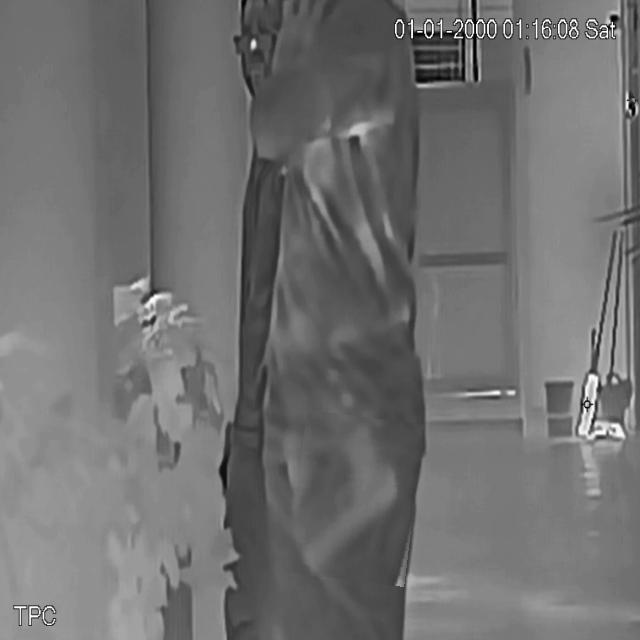Weapon: (292, 413, 420, 584)
